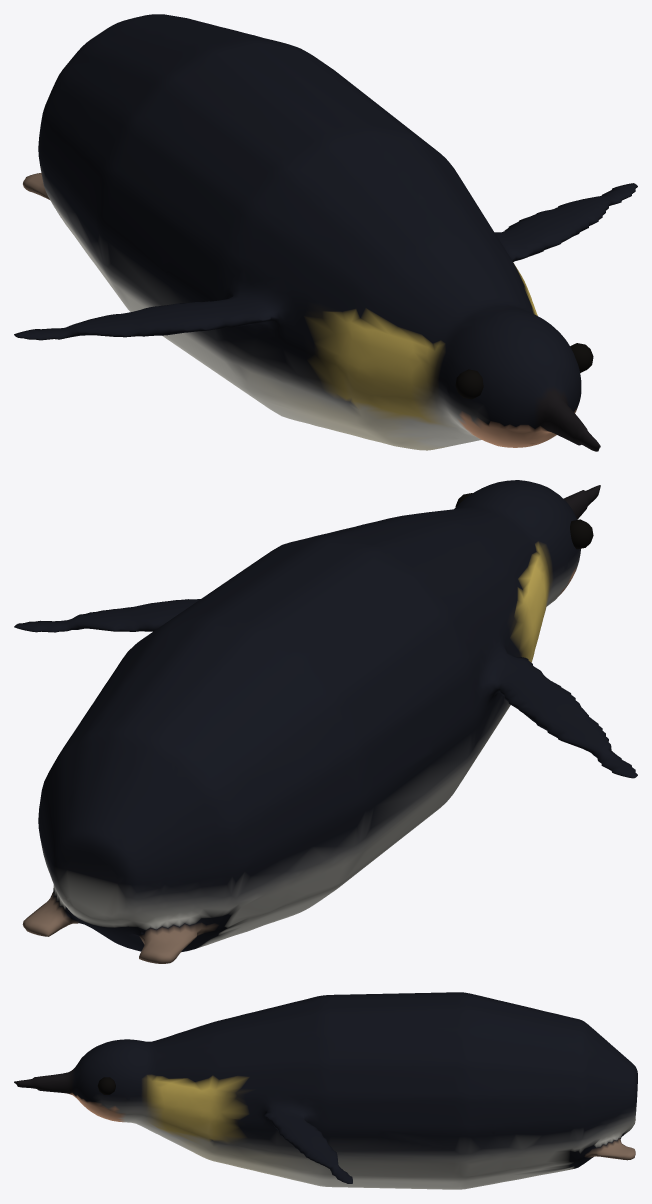
Rendered from AptenodytesForsteri.fbx.
3 renders of one model, top to bottom at view 1: azimuth 30°, elevation 25°; view 2: azimuth 150°, elevation 25°; view 3: azimuth 270°, elevation 25°, orthographic. The views are drawn at different scales.
Parts seen in each view (by area): view 1: AptenodytesForsteri; view 2: AptenodytesForsteri; view 3: AptenodytesForsteri.
Part boxes in pixels (x1,y1,x2,y2): AptenodytesForsteri: (14,14,637,451); AptenodytesForsteri: (14,480,637,963); AptenodytesForsteri: (14,992,637,1189).
Size of the model in its own units: 1.18 by 0.5309 by 1.67.
